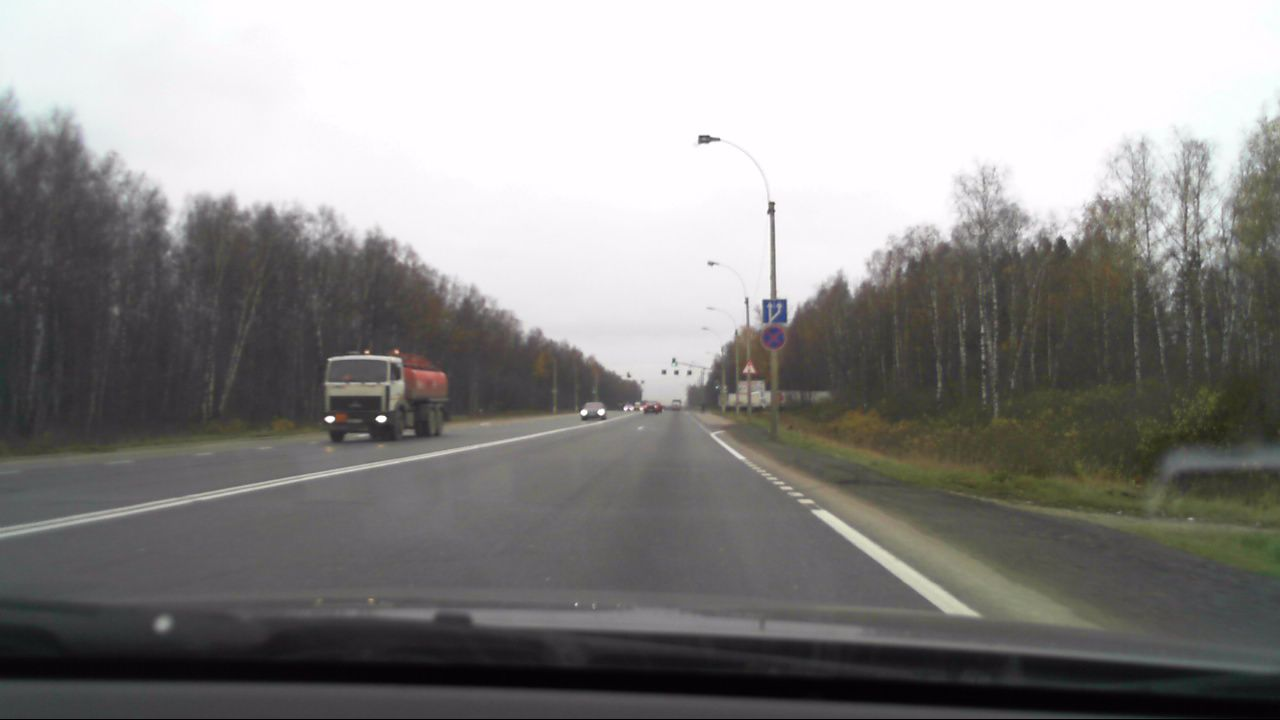No Parking: (760, 325, 787, 349)
